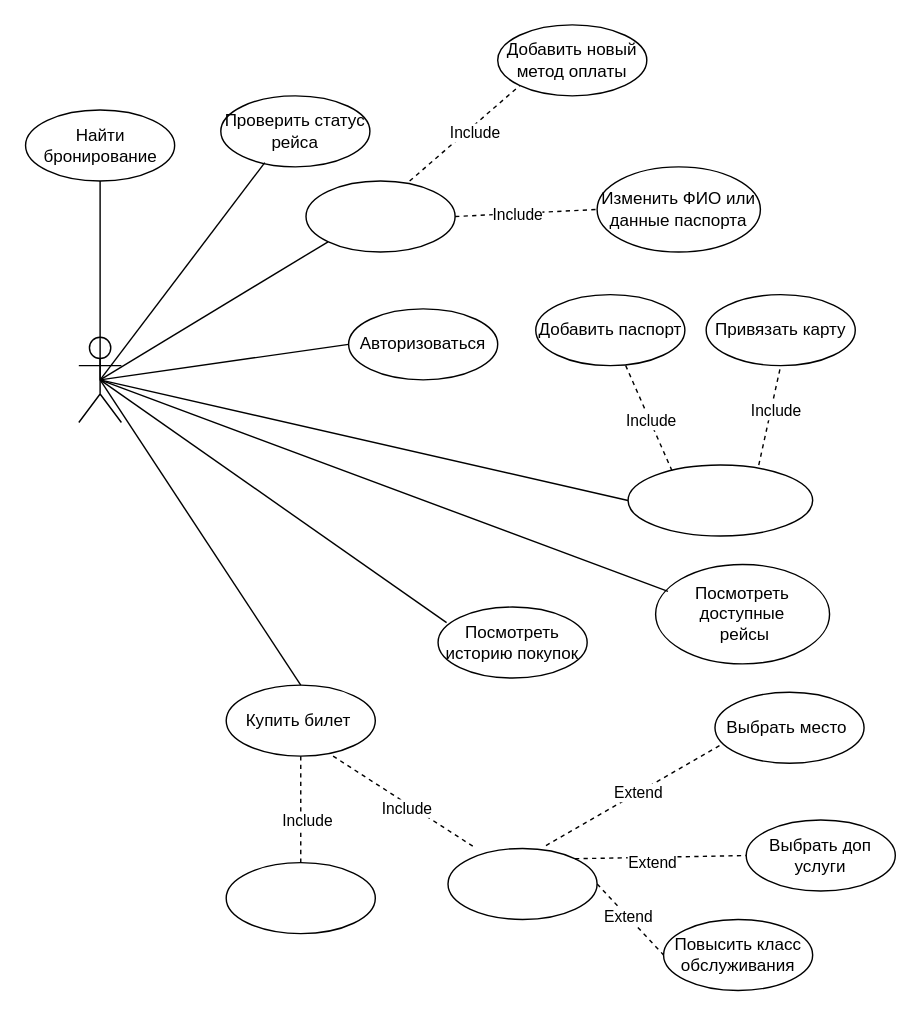
The diagram is 920 pixels wide and 1015 high, and some of its shapes have lost their labels. Each missing label, with the box of its shape:
Зарегистрироваться: (627, 464, 813, 536)
Зарегистрироваться на рейс: (447, 847, 597, 919)
Пассажир: (77, 336, 121, 422)
Редактировать профиль: (305, 180, 455, 252)
Сдать билет: (225, 861, 375, 934)
